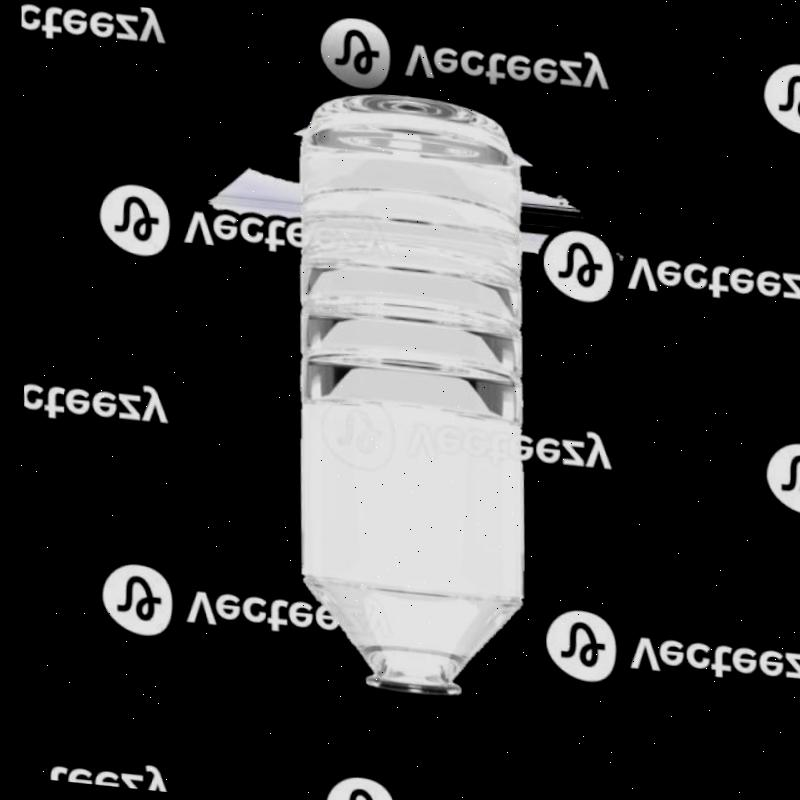botella: (273, 79, 550, 710)
